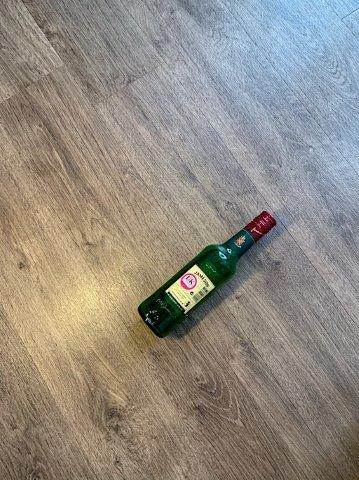botolkaca: (139, 212, 276, 337)
